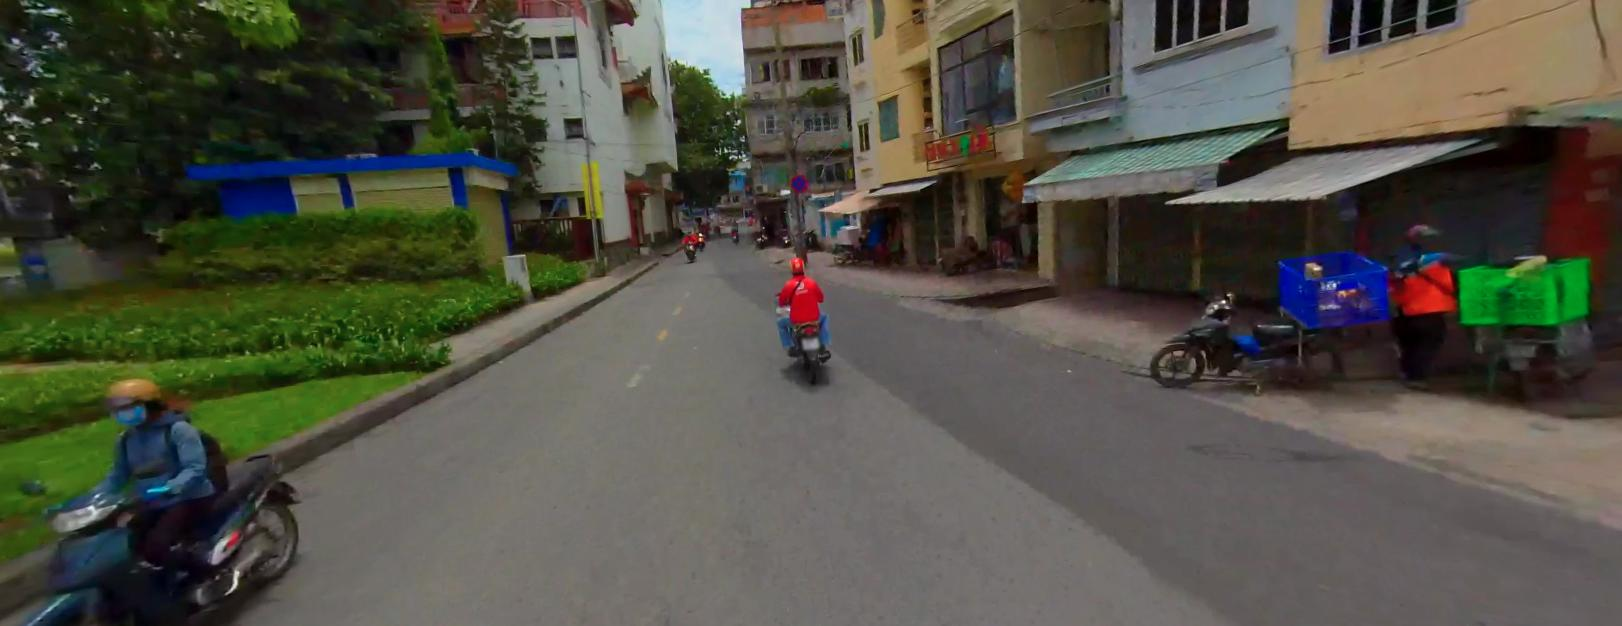Cam dung va do: (790, 173, 808, 191)
